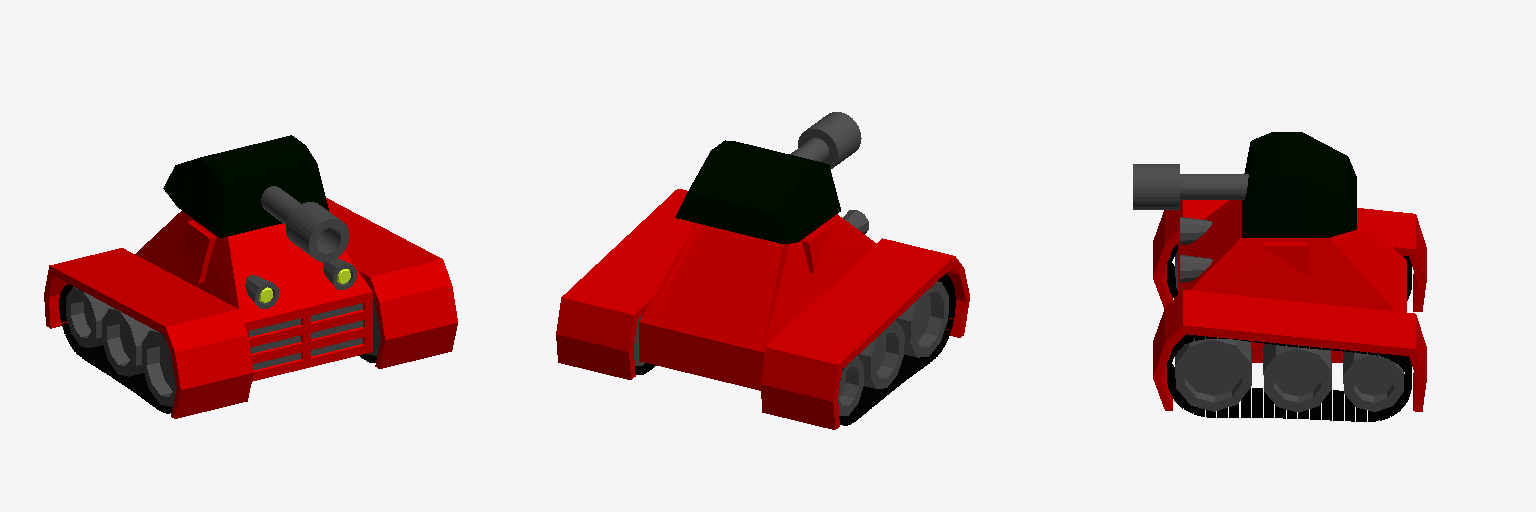
3 renders of one model, left to right at view 1: azimuth 30°, elevation 25°; view 2: azimuth 150°, elevation 25°; view 3: azimuth 270°, elevation 25°, orthographic.
Size of the model in its own units: 4.23 by 2.97 by 3.87.
Materials: 7 (3 with a texture image).